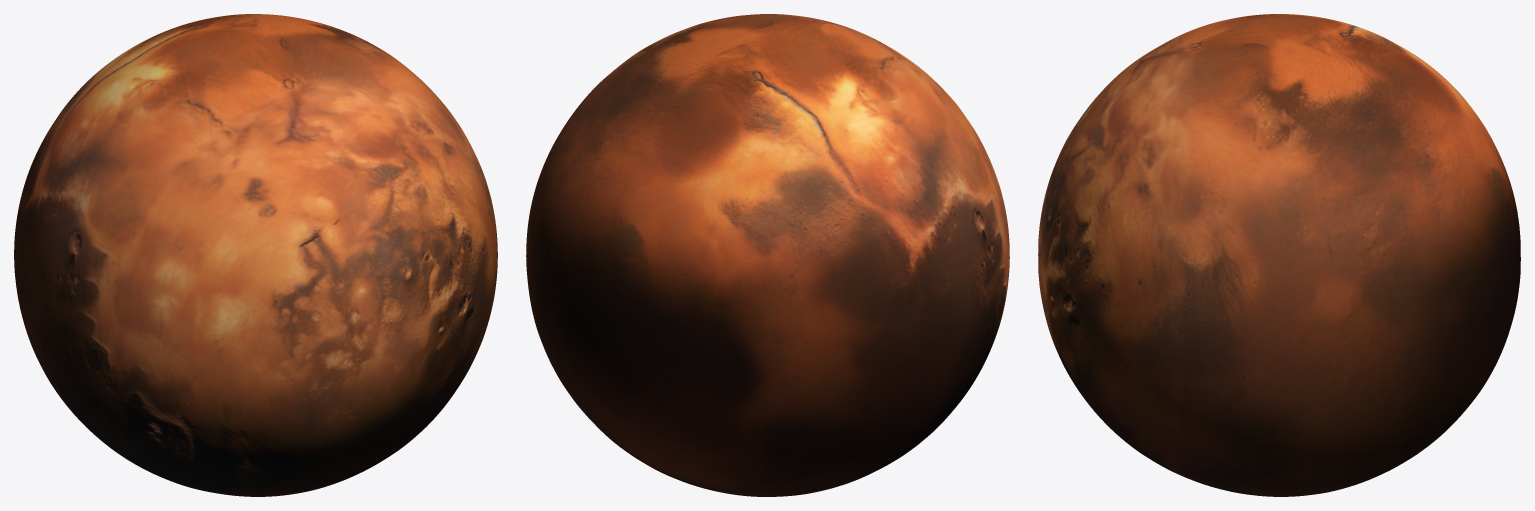
File: LHS_475_b_0920020501.glb
3 views of the same model, side by side, from view 1: azimuth 30°, elevation 25°; view 2: azimuth 150°, elevation 25°; view 3: azimuth 270°, elevation 25° (orthographic).
Size of the model in its own units: 2 by 2 by 2.
Materials: 1 (1 with a texture image).
